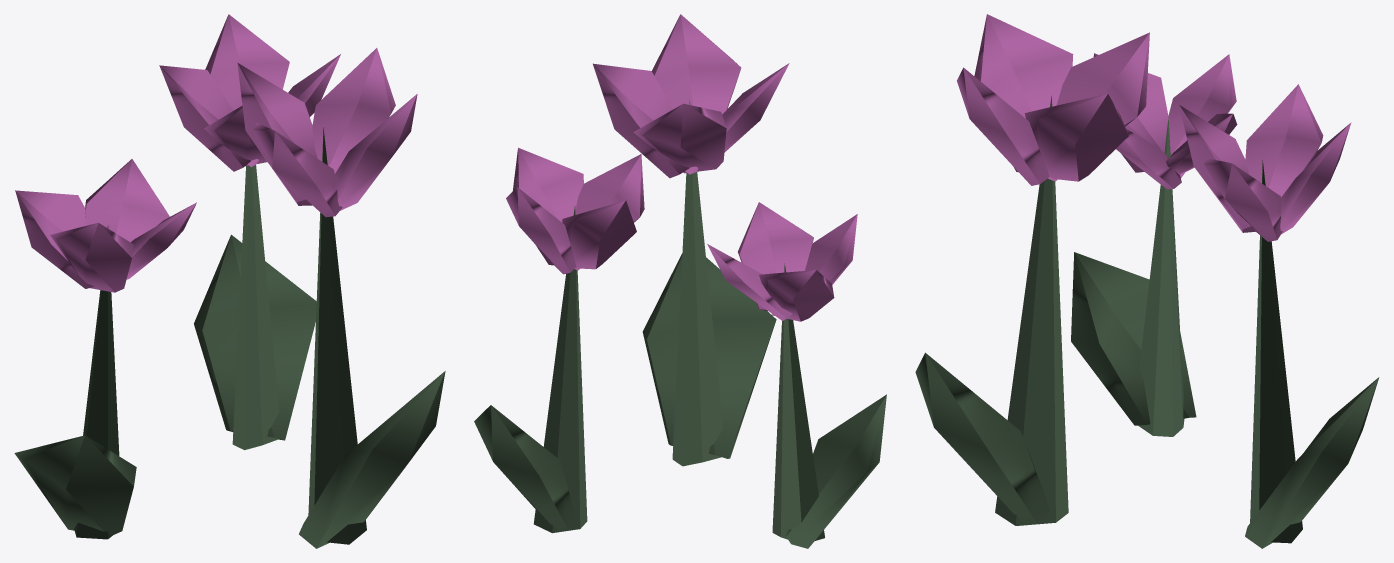
Rendered from flower_trio.fbx.
The picture shows the model from 3 angles, left to right: view 1: azimuth 30°, elevation 25°; view 2: azimuth 150°, elevation 25°; view 3: azimuth 270°, elevation 25°; orthographic projection. The views are drawn at different scales.
Parts seen in each view (by area): view 1: leaf (×3), flower_stem (×3), flower_petal3 (×3), flower_petal (×3), flower_petal1 (×3), flower_petal2 (×3); view 2: leaf (×3), flower_stem (×3), flower_petal (×3), flower_petal3 (×3), flower_petal1 (×3), flower_petal2 (×3); view 3: flower_stem (×3), leaf (×3), flower_petal (×3), flower_petal2 (×3), flower_petal3 (×3), flower_petal1 (×3).
Boxes of the visible parts, bbox=[...] form: leaf (×3): bbox=[14, 234, 445, 548]; flower_stem (×3): bbox=[74, 127, 366, 544]; flower_petal3 (×3): bbox=[50, 14, 417, 292]; flower_petal (×3): bbox=[126, 48, 395, 279]; flower_petal1 (×3): bbox=[85, 62, 317, 242]; flower_petal2 (×3): bbox=[15, 54, 342, 288]; leaf (×3): bbox=[474, 253, 886, 548]; flower_stem (×3): bbox=[533, 100, 824, 540]; flower_petal (×3): bbox=[562, 63, 813, 310]; flower_petal3 (×3): bbox=[506, 14, 857, 284]; flower_petal1 (×3): bbox=[574, 103, 792, 320]; flower_petal2 (×3): bbox=[513, 63, 834, 321]; flower_stem (×3): bbox=[995, 95, 1302, 543]; leaf (×3): bbox=[915, 252, 1379, 548]; flower_petal (×3): bbox=[1024, 84, 1323, 197]; flower_petal2 (×3): bbox=[974, 14, 1282, 241]; flower_petal3 (×3): bbox=[957, 53, 1351, 234]; flower_petal1 (×3): bbox=[1048, 32, 1255, 232].
Bounding box in the file's own units: 0.7983 × 0.9388 × 0.8272.
